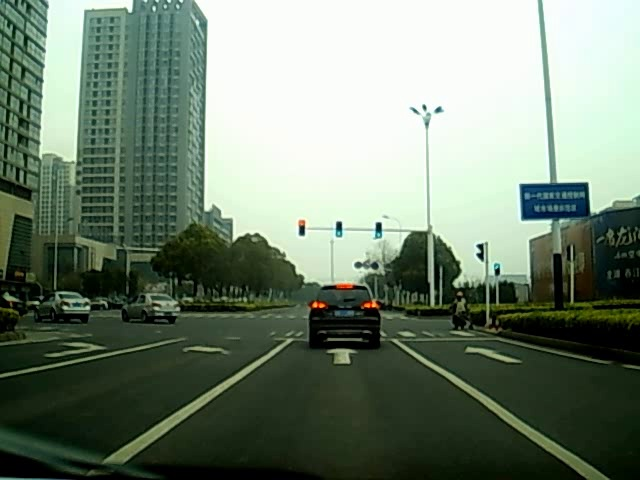Traffic_Light_go: (375, 223, 382, 239), (336, 221, 342, 237)
Traffic_Light_stop: (298, 219, 306, 236)
